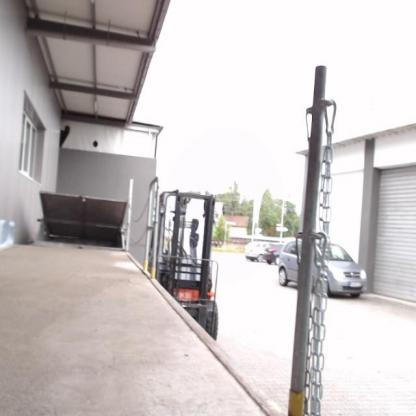forklift: (154, 189, 219, 340)
